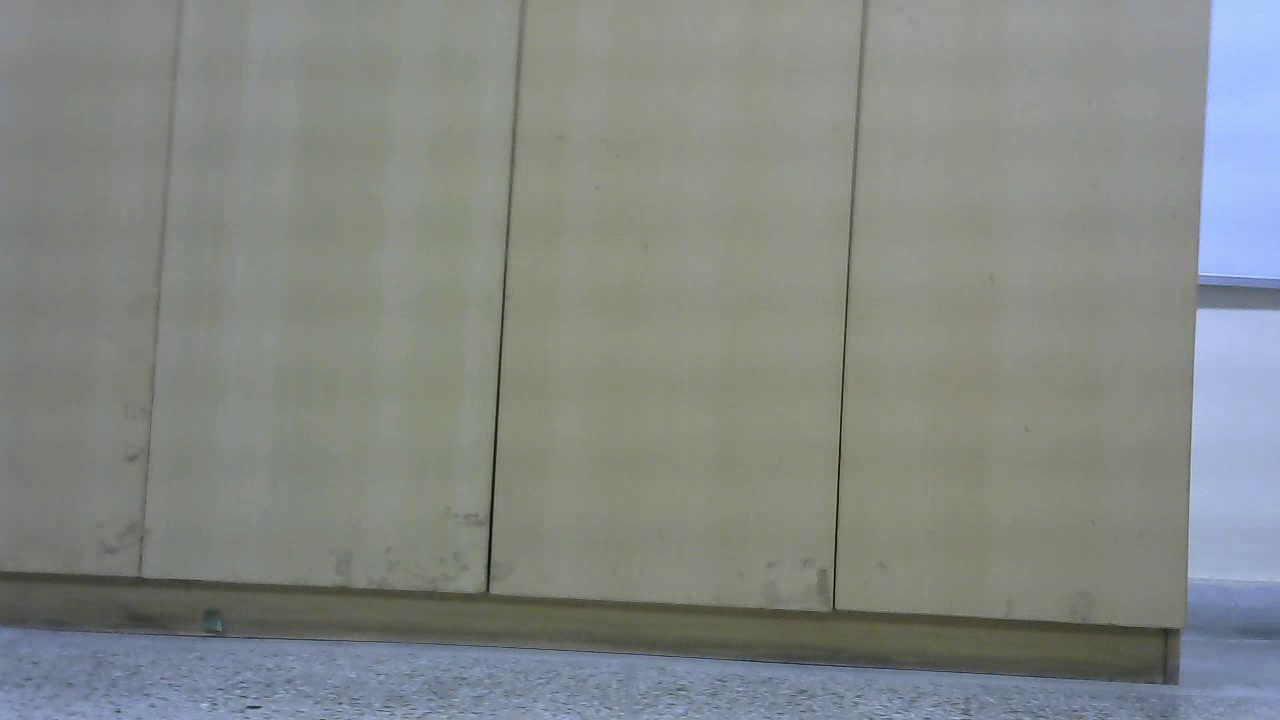chair: (1, 2, 167, 605)
